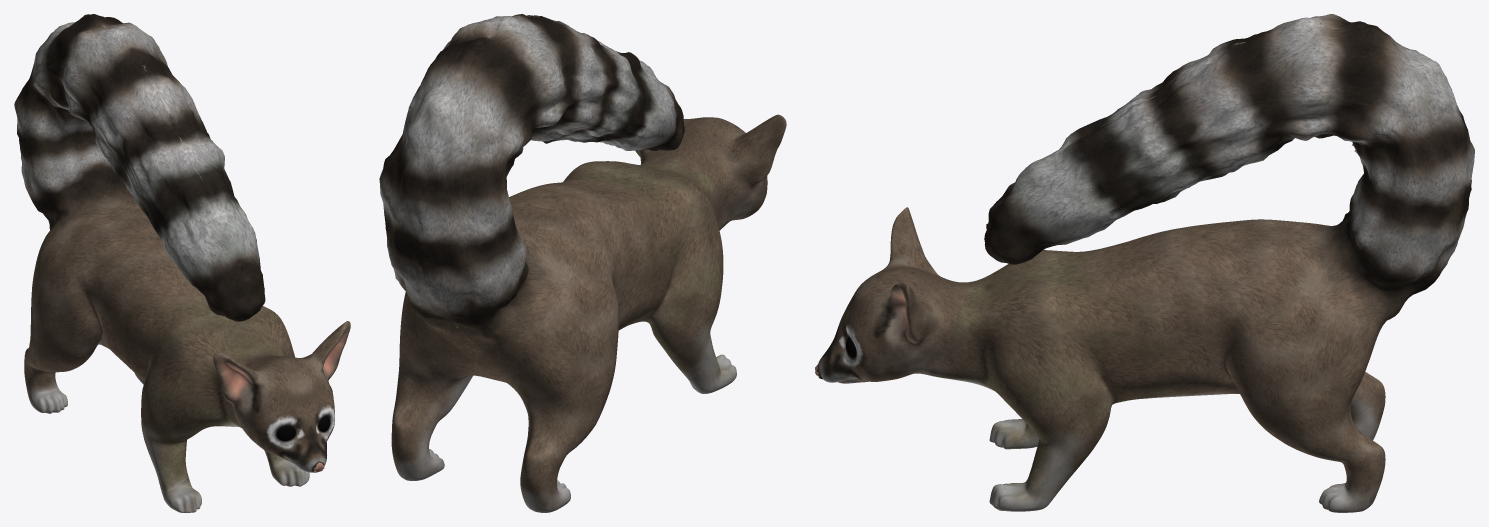
File: Cacomixtle.glb
3 views of the same model, side by side, from view 1: azimuth 30°, elevation 25°; view 2: azimuth 150°, elevation 25°; view 3: azimuth 270°, elevation 25° (orthographic). The views are drawn at different scales.
Parts seen in each view (by area): view 1: Bassariscus astutus; view 2: Bassariscus astutus; view 3: Bassariscus astutus.
Part boxes in pixels (<box>): Bassariscus astutus: <box>14,14,350,512</box>; Bassariscus astutus: <box>379,14,786,512</box>; Bassariscus astutus: <box>815,14,1474,512</box>.
Size of the model in its own units: 2.13 by 4.67 by 6.11.
2 materials, 2 textured.
